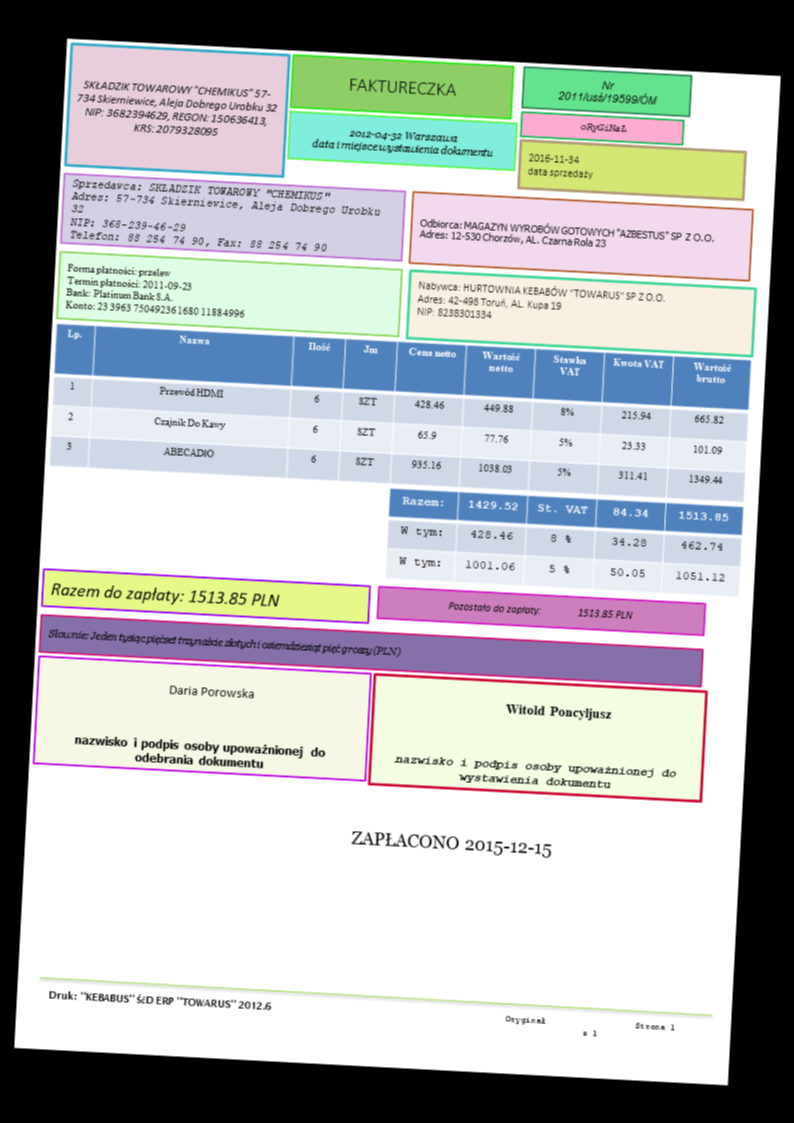Table: (47, 321, 752, 504), (382, 487, 745, 597)
TextBox: (66, 173, 384, 256), (73, 75, 280, 143), (44, 622, 402, 661), (413, 277, 666, 329), (389, 751, 676, 795), (417, 215, 716, 256), (61, 258, 249, 320), (68, 732, 328, 775), (46, 575, 281, 609), (44, 983, 276, 1014), (346, 827, 554, 861), (309, 124, 497, 160), (502, 1013, 679, 1043), (443, 597, 634, 621), (554, 74, 659, 108), (344, 73, 460, 100), (502, 699, 616, 723), (165, 678, 258, 702), (524, 150, 595, 181), (576, 118, 630, 134)
